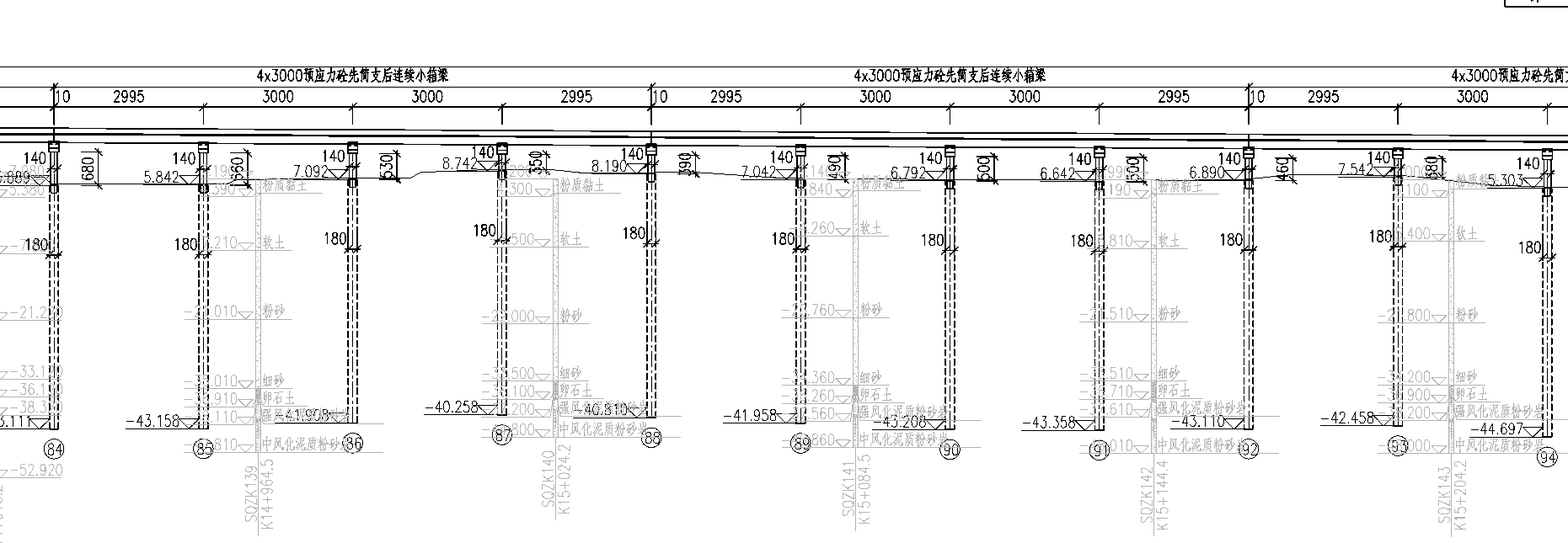C: (119, 133, 227, 467), (866, 137, 971, 469), (1018, 140, 1122, 471), (719, 136, 824, 460), (1316, 140, 1419, 465), (420, 133, 523, 453), (1468, 141, 1567, 473), (275, 133, 375, 460), (1173, 138, 1271, 468), (580, 135, 672, 457), (0, 130, 76, 469)
